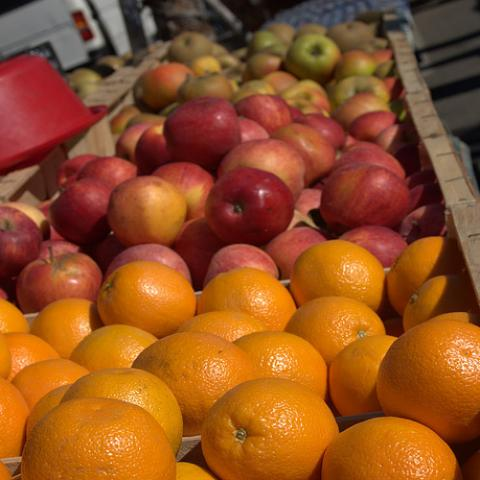truck: (0, 0, 157, 75)
